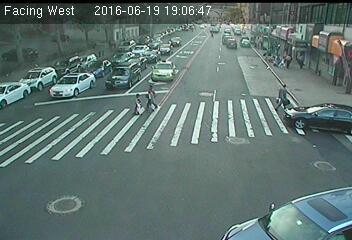neg: (222, 40, 237, 60), (213, 116, 228, 136), (164, 122, 178, 141), (203, 66, 216, 84), (170, 45, 183, 62), (83, 105, 96, 122), (84, 71, 94, 85), (124, 55, 134, 68)
pos: (275, 82, 296, 110), (142, 81, 163, 109), (129, 90, 148, 115), (295, 52, 307, 68), (284, 52, 295, 67)
